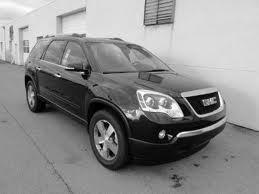car: (23, 32, 231, 174)
